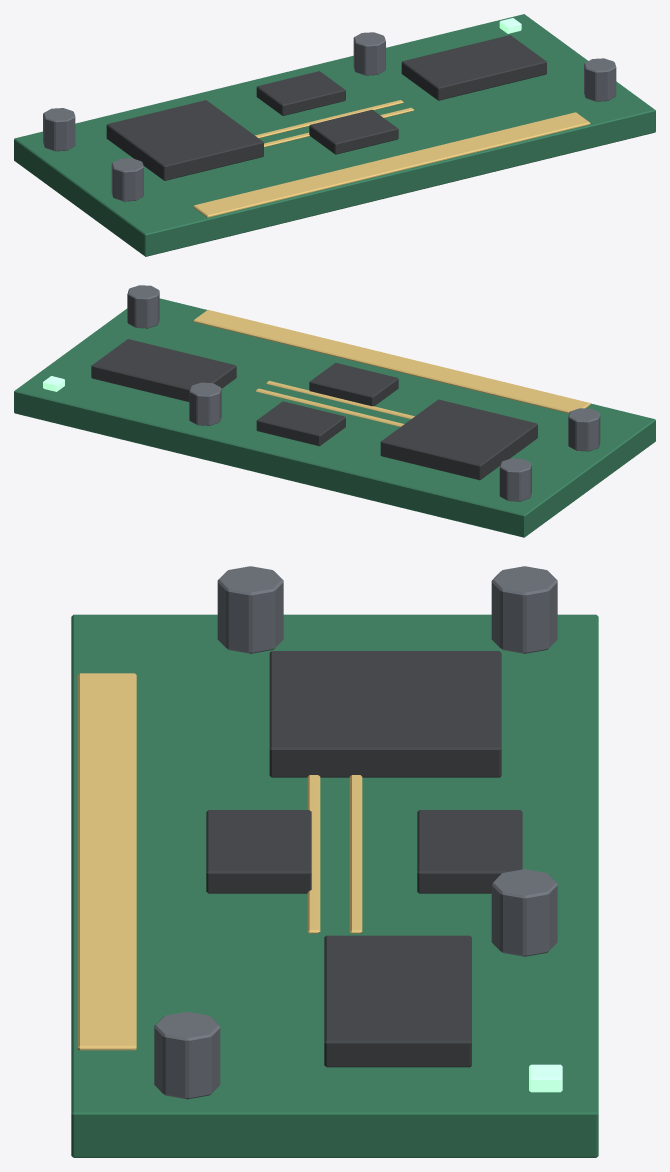
File: circuit_board.glb
The picture shows the model from 3 angles, top to bottom: view 1: azimuth 30°, elevation 25°; view 2: azimuth 150°, elevation 25°; view 3: azimuth 270°, elevation 25°; orthographic projection. The views are drawn at different scales.
Visible parts, largest first — view 1: circuit_board; view 2: circuit_board; view 3: circuit_board.
Boxes of the visible parts, box(x1,y1,x2,y2) form: circuit_board: box(14, 14, 655, 256); circuit_board: box(14, 285, 655, 537); circuit_board: box(71, 566, 598, 1157).
Size of the model in its own units: 0.28 by 0.028 by 0.125.
